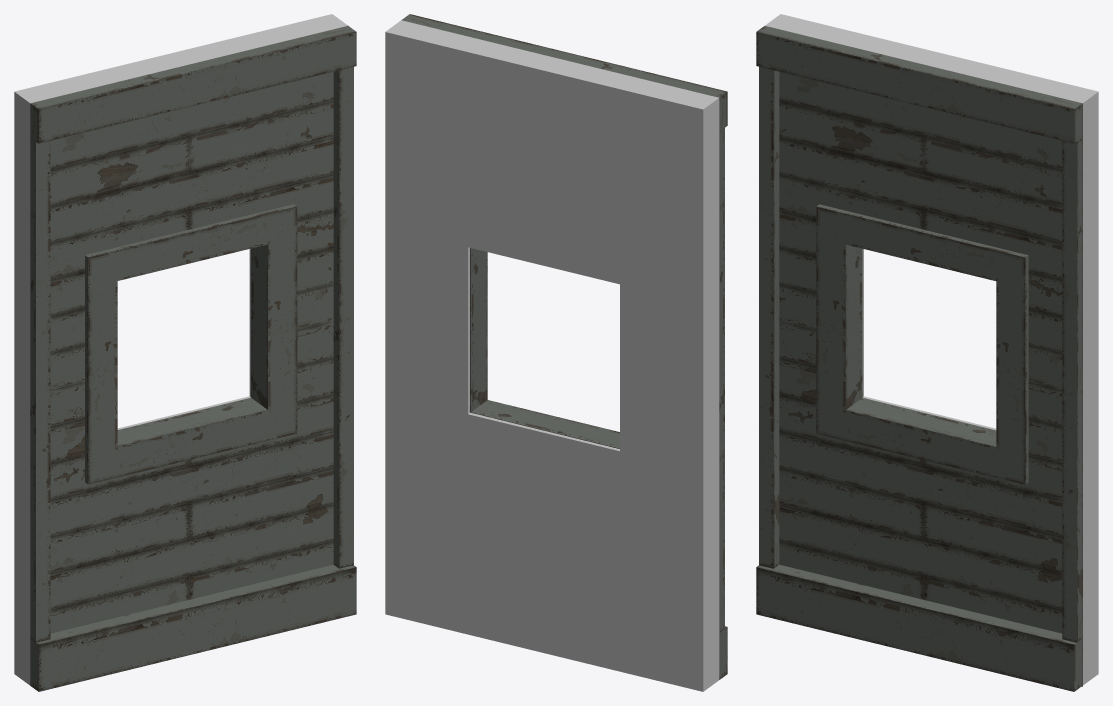
Rendered from SM_EWall200WindowB.FBX.
The picture shows the model from 3 angles, left to right: view 1: azimuth 30°, elevation 25°; view 2: azimuth 150°, elevation 25°; view 3: azimuth 330°, elevation 25°; orthographic projection.
Visible parts, largest first — view 1: SM_EWall200WindowB; view 2: SM_EWall200WindowB; view 3: SM_EWall200WindowB.
Part boxes in pixels (box(x1,y1,x2,y2)): SM_EWall200WindowB: box(14, 14, 356, 691); SM_EWall200WindowB: box(385, 14, 727, 691); SM_EWall200WindowB: box(756, 14, 1098, 691).
Bounding box in the file's own units: 200 × 351 × 26.73.
